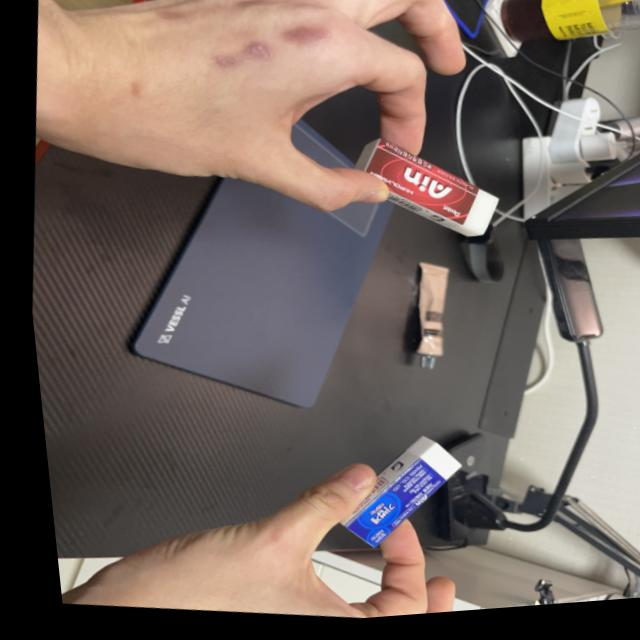blue: (301, 421, 475, 572)
red: (331, 127, 513, 265)
